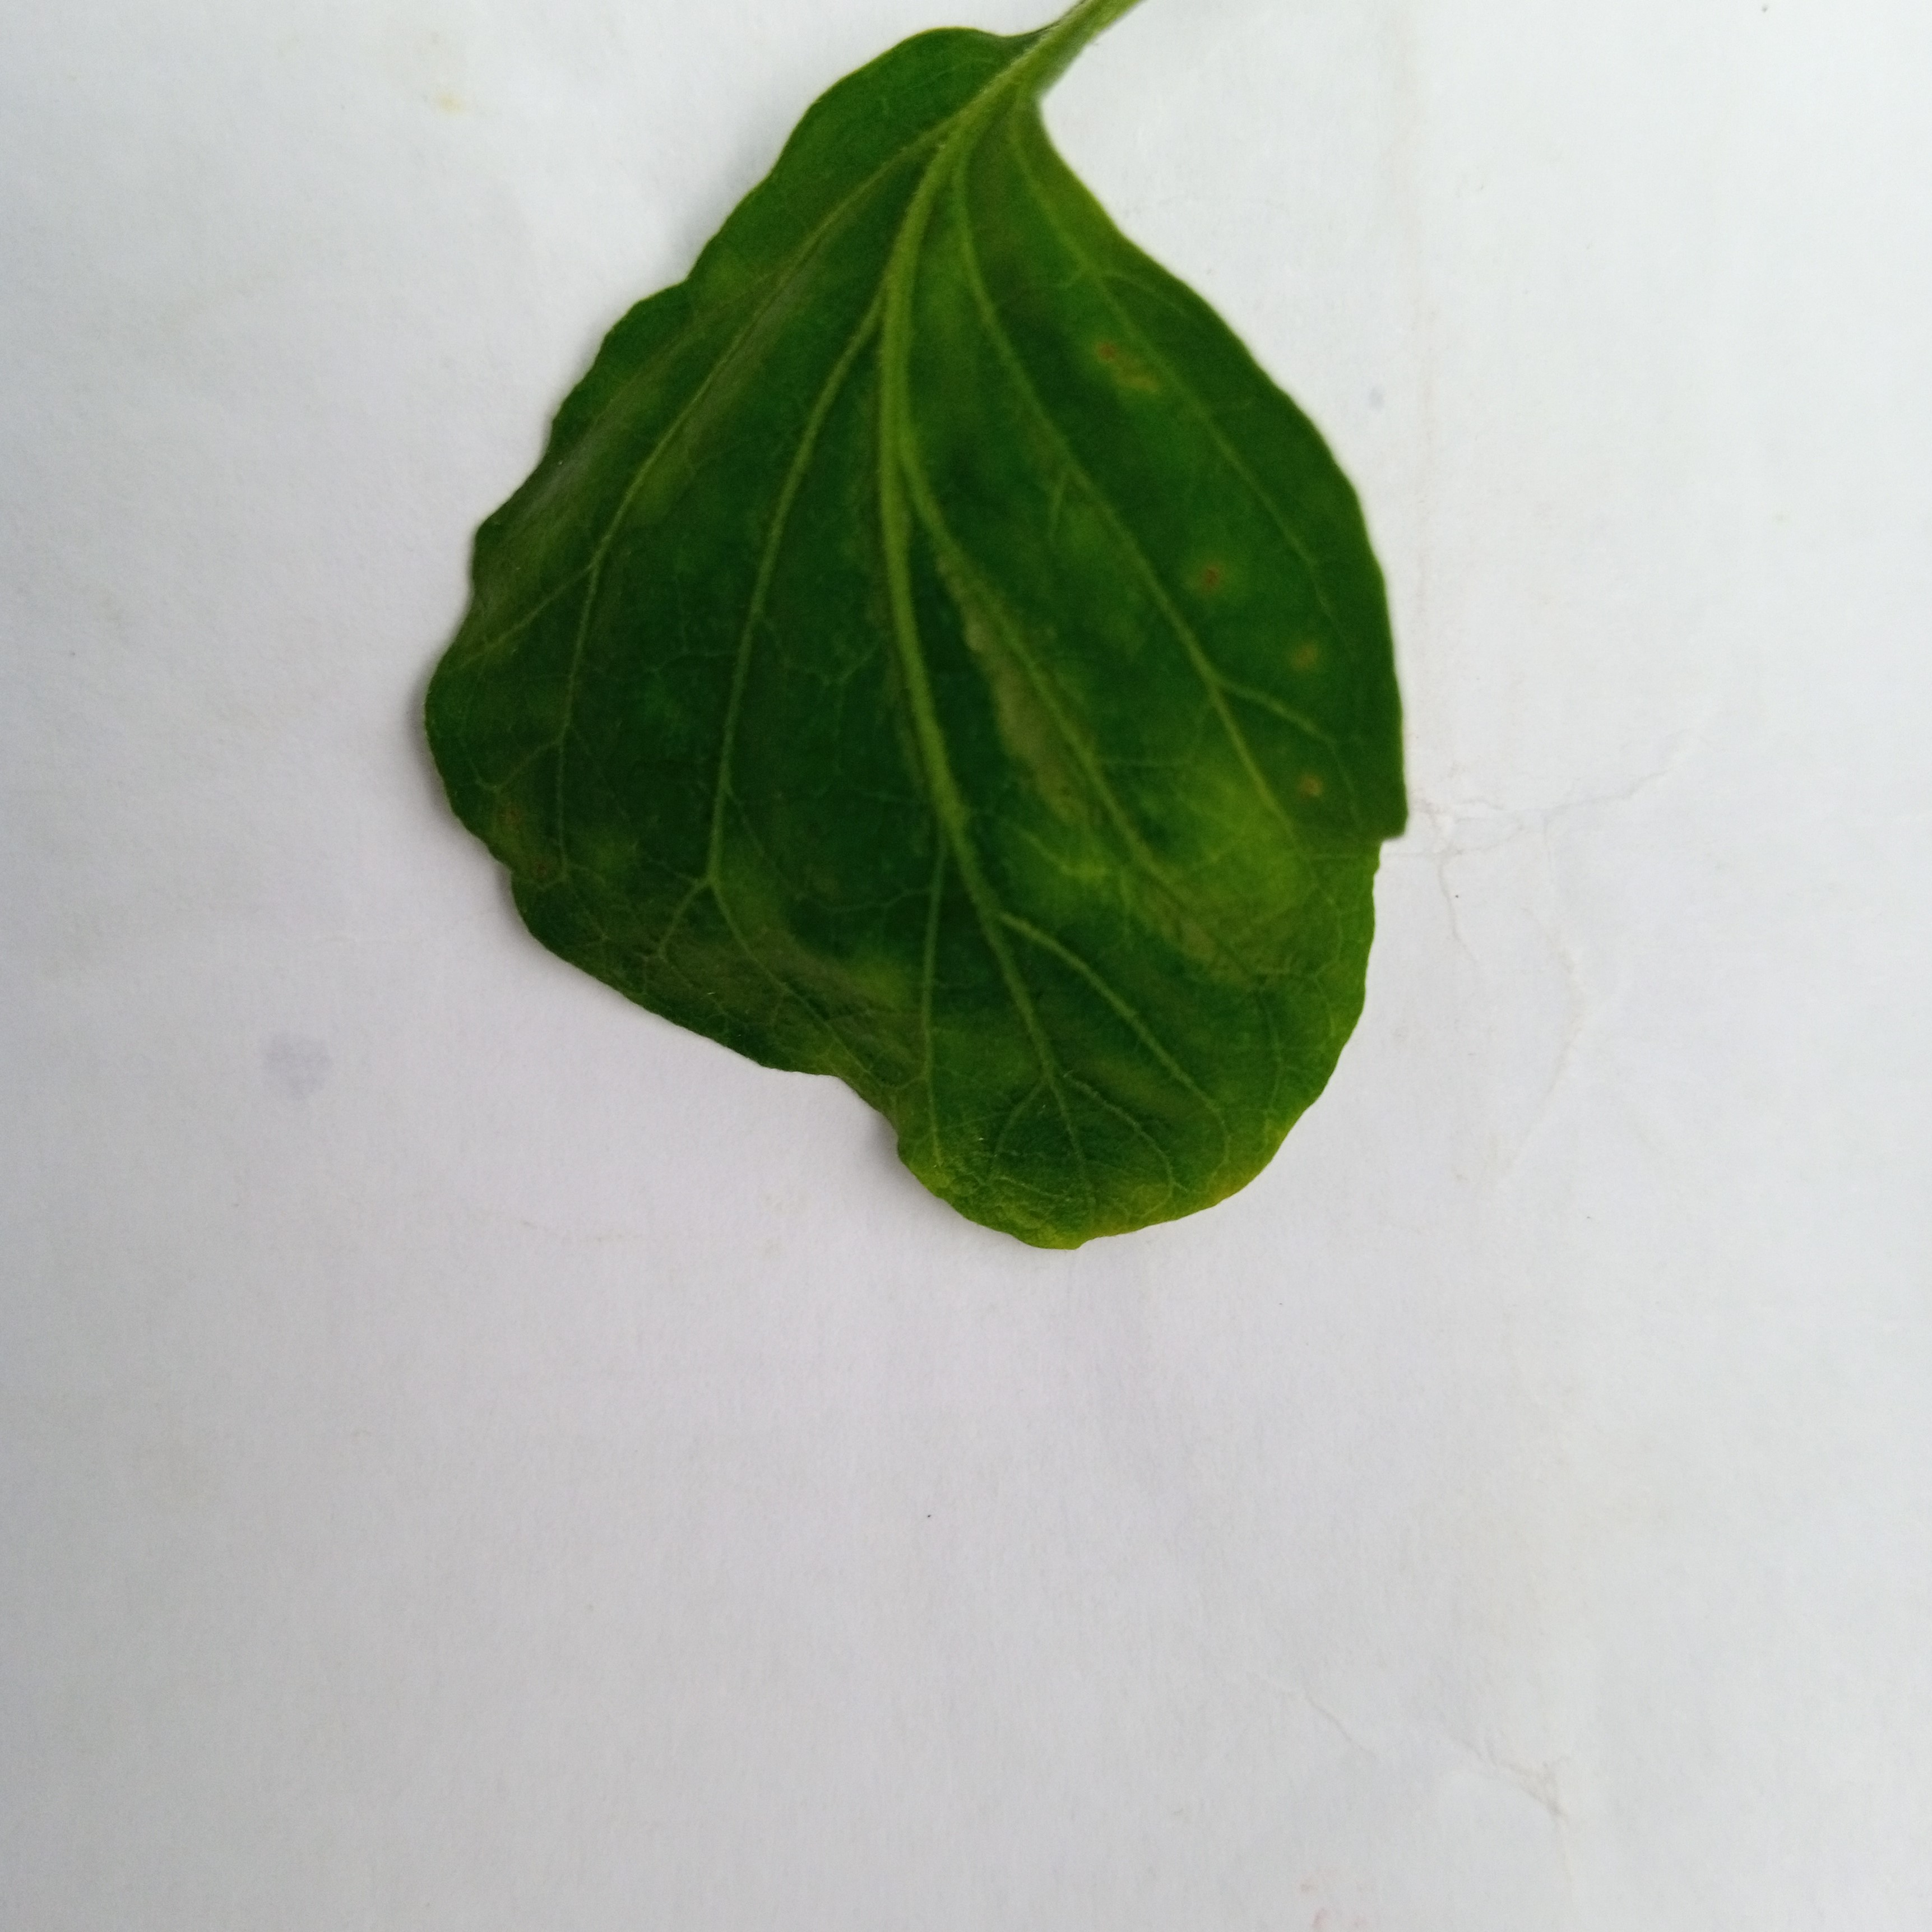Leaf: (295, 16, 1762, 1488)
